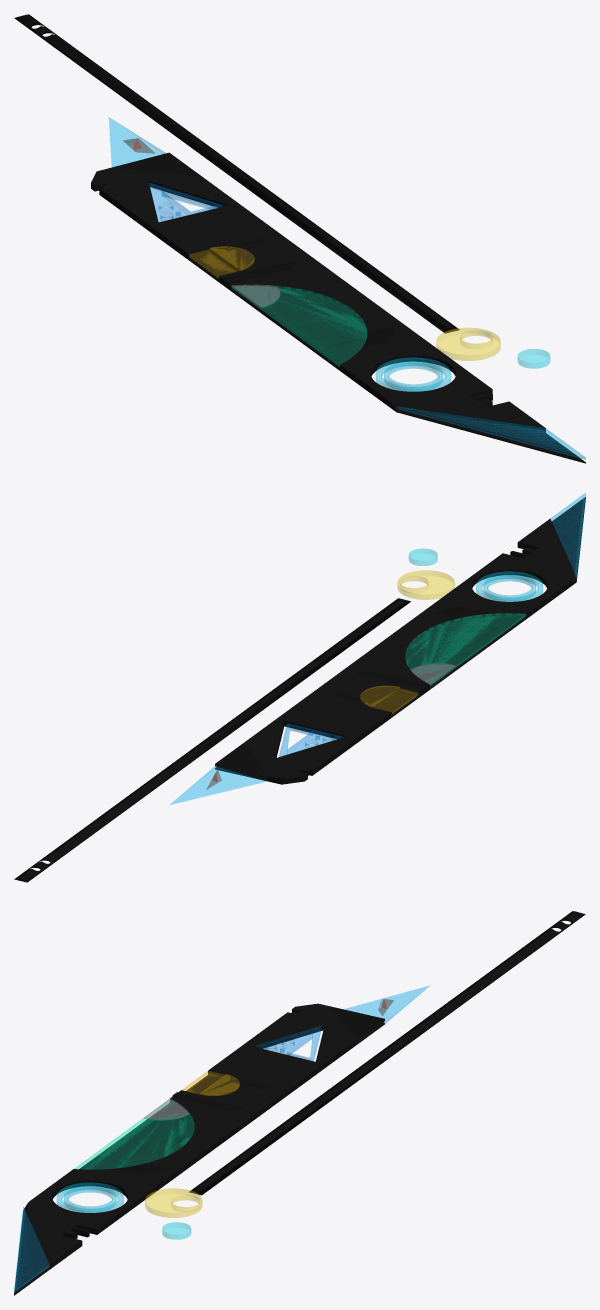
File: Skyboard.glb
3 views of the same model, one above another, from view 1: azimuth 30°, elevation 25°; view 2: azimuth 150°, elevation 25°; view 3: azimuth 330°, elevation 25° (orthographic). The views are drawn at different scales.
Parts seen in each view (by area): view 1: Part 1, Part 16, Part 5, Part 14, Part 17, Part 15, Part 12, Part 2, Part 13, Part 3, Part 11, Part 6 (+2 smaller); view 2: Part 1, Part 16, Part 5, Part 14, Part 15, Part 17, Part 13, Part 2, Part 12, Part 3, Part 11, Part 8 (+2 smaller); view 3: Part 1, Part 16, Part 5, Part 14, Part 17, Part 15, Part 12, Part 2, Part 13, Part 3, Part 11, Part 6 (+1 smaller).
Boxes of the visible parts, x1,y1,x2,y2 form: Part 1: (91,167,585,463); Part 16: (14,14,459,333); Part 5: (231,286,366,366); Part 14: (396,406,585,459); Part 17: (436,328,500,360); Part 15: (109,117,165,166); Part 12: (149,183,222,221); Part 2: (376,357,450,391); Part 13: (112,152,201,176); Part 3: (384,361,442,391); Part 11: (231,285,279,307); Part 6: (231,285,279,307); Part 1: (215,497,585,784); Part 16: (14,598,410,882); Part 5: (405,613,525,685); Part 14: (550,493,585,577); Part 15: (170,766,266,804); Part 17: (397,570,454,599); Part 13: (215,742,267,777); Part 2: (476,571,542,601); Part 12: (279,723,343,756); Part 3: (483,575,535,601); Part 11: (411,663,455,684); Part 8: (374,688,418,713); Part 1: (14,1003,384,1295); Part 16: (189,911,585,1195); Part 5: (74,1113,194,1169); Part 14: (14,1207,49,1291); Part 17: (145,1188,202,1217); Part 15: (344,986,429,1023); Part 12: (255,1026,320,1060); Part 2: (57,1182,123,1212); Part 13: (332,1007,384,1041); Part 3: (64,1186,116,1212); Part 11: (144,1098,188,1119); Part 6: (144,1099,188,1119).
Bounding box in the file's own units: 6.07 × 0.5065 × 37.31.
